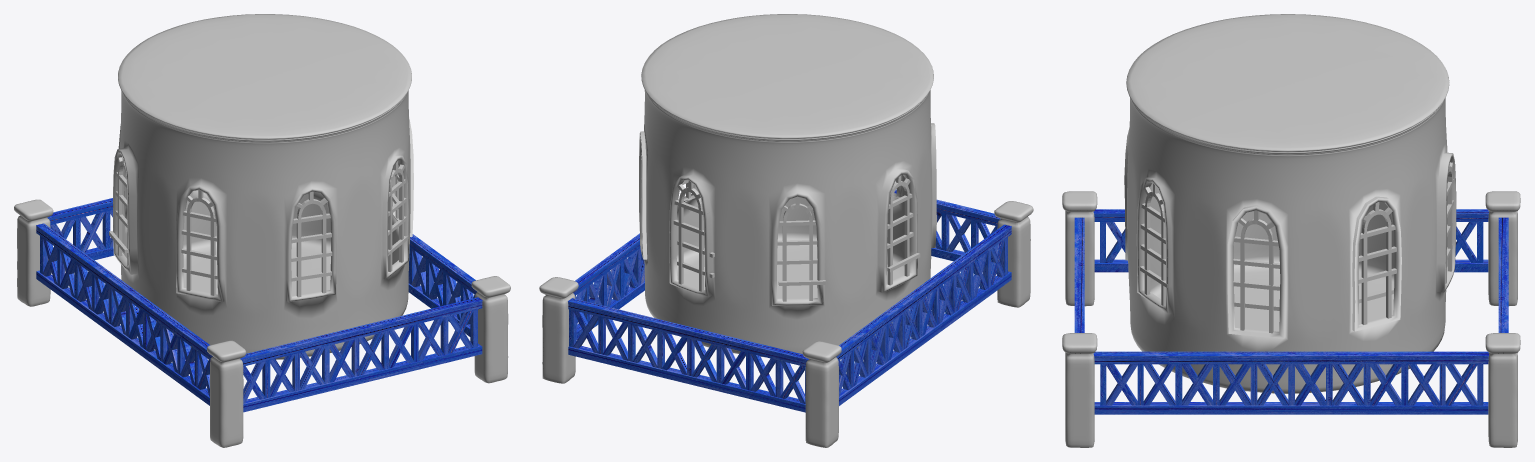
Rendered from level2-test.fbx.
3 renders of one model, left to right at view 1: azimuth 30°, elevation 25°; view 2: azimuth 150°, elevation 25°; view 3: azimuth 270°, elevation 25°, orthographic. The views are drawn at different scales.
Parts seen in each view (by area): view 1: Cylinder, Fence1, Fence2.001, Collar1.010, Fence2, Collar1.007, Collar1.009, Fence3; view 2: Cylinder, Fence3, Fence2.001, Collar1.009, Fence2, Collar1.008, Collar1.010, Fence1; view 3: Cylinder, Fence2, Collar1.008, Collar1.007, Fence2.001, Collar1.009, Collar1.010, Fence1, Fence3, Cube.045, Cube.017, Cube.044.
Part boxes in pixels (x1,y1,x2,y2): Cylinder: (113, 14, 413, 359); Fence1: (240, 297, 482, 412); Fence2.001: (36, 223, 212, 405); Collar1.010: (207, 340, 246, 447); Fence2: (408, 234, 477, 336); Collar1.007: (471, 276, 510, 383); Collar1.009: (14, 199, 53, 306); Fence3: (47, 198, 114, 261); Cylinder: (639, 14, 936, 357); Fence3: (568, 298, 808, 412); Fence2.001: (836, 224, 1011, 405); Collar1.009: (802, 341, 841, 447); Fence2: (573, 233, 644, 339); Collar1.008: (539, 277, 578, 383); Collar1.010: (994, 201, 1033, 307); Fence1: (894, 189, 1000, 262); Cylinder: (1124, 14, 1456, 393); Fence2: (1093, 351, 1488, 414); Collar1.008: (1485, 333, 1520, 447); Collar1.007: (1062, 333, 1097, 447); Fence2.001: (1093, 209, 1488, 272); Collar1.009: (1485, 191, 1520, 305); Collar1.010: (1062, 191, 1097, 306); Fence1: (1074, 217, 1084, 332); Fence3: (1498, 217, 1508, 332); Cube.045: (1361, 236, 1367, 324); Cube.017: (1144, 206, 1150, 294); Cube.044: (1386, 231, 1391, 318).
Size of the model in its own units: 156 by 137 by 194.
